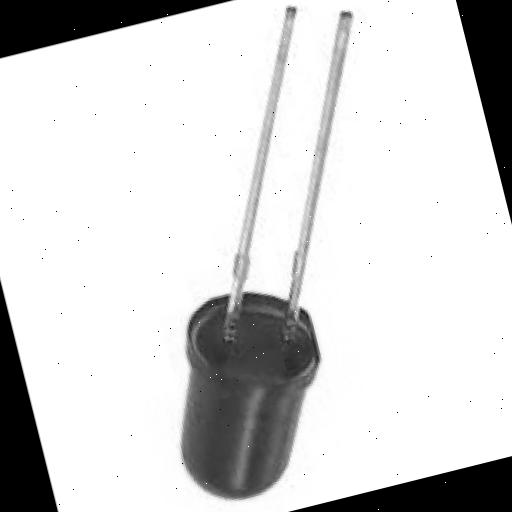LED: (26, 0, 494, 512)
